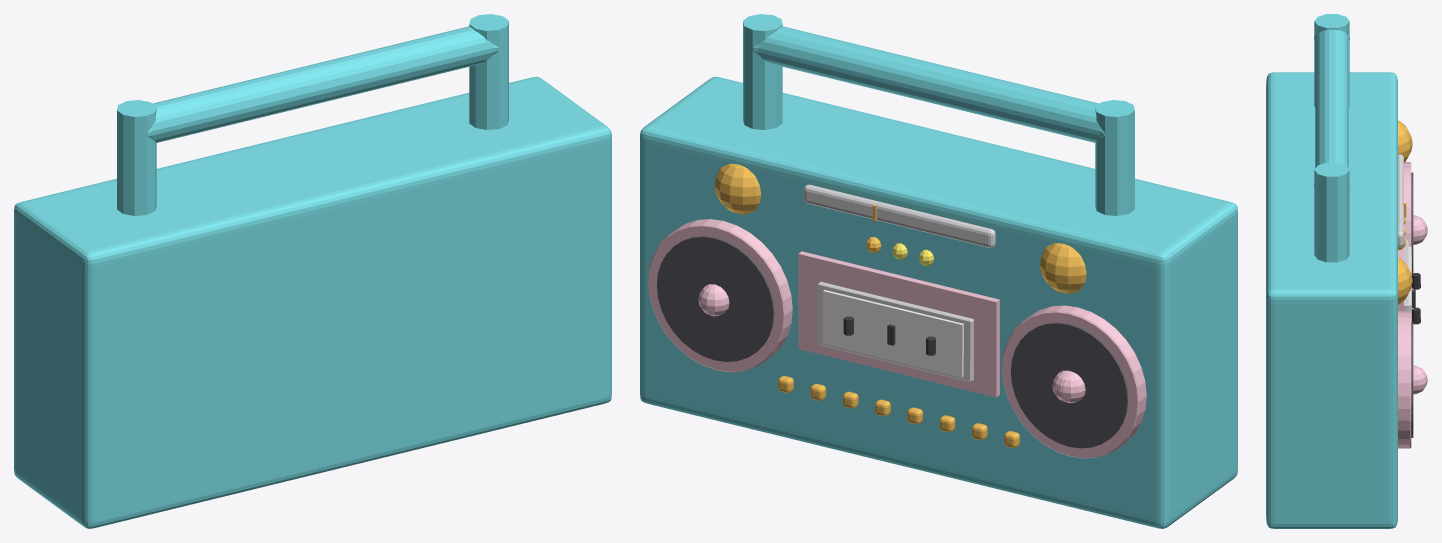
Rendered from casPlaing.glb.
The picture shows the model from 3 angles, left to right: view 1: azimuth 30°, elevation 25°; view 2: azimuth 150°, elevation 25°; view 3: azimuth 270°, elevation 25°; orthographic projection. The views are drawn at different scales.
Parts seen in each view (by area): view 1: Body, HandleBar, HandleLegR; view 2: Body, HandleBar, SpeakerGrille_R.001, SpeakerGrille_R.002, CassetteBay, HandleLegR, TapeBG, SpeakerRing_R, SpeakerRing_R.002, TunerBar, Knob_R, CassetteWindow (+1 smaller); view 3: Body, HandleBar, HandleLegR, SpeakerRing_R, Knob_R, DustCap_R.002, SpeakerRing_R.002, TunerBar, SpeakerGrille_R.001, SpeakerGrille_R.002.
Boxes of the visible parts, <box> form: Body: <box>14,76,611,528</box>; HandleBar: <box>146,26,499,142</box>; HandleLegR: <box>117,14,508,215</box>; Body: <box>640,76,1237,528</box>; HandleBar: <box>752,26,1105,142</box>; SpeakerGrille_R.001: <box>656,236,774,361</box>; SpeakerGrille_R.002: <box>1010,322,1128,448</box>; CassetteBay: <box>798,251,999,397</box>; HandleLegR: <box>743,14,1134,215</box>; TapeBG: <box>822,290,963,377</box>; SpeakerRing_R: <box>648,219,792,372</box>; SpeakerRing_R.002: <box>1002,305,1146,458</box>; TunerBar: <box>803,184,995,247</box>; Knob_R: <box>714,163,1086,293</box>; CassetteWindow: <box>817,282,973,381</box>; Body: <box>1266,72,1397,528</box>; HandleBar: <box>1314,29,1349,187</box>; HandleLegR: <box>1314,14,1349,262</box>; SpeakerRing_R: <box>1398,311,1411,448</box>; Knob_R: <box>1398,120,1412,304</box>; DustCap_R.002: <box>1413,217,1427,394</box>; SpeakerRing_R.002: <box>1404,162,1411,246</box>; TunerBar: <box>1398,154,1403,247</box>; SpeakerGrille_R.001: <box>1411,322,1413,437</box>; SpeakerGrille_R.002: <box>1411,172,1413,274</box>.
Size of the model in its own units: 4.42 by 3 by 1.35.
